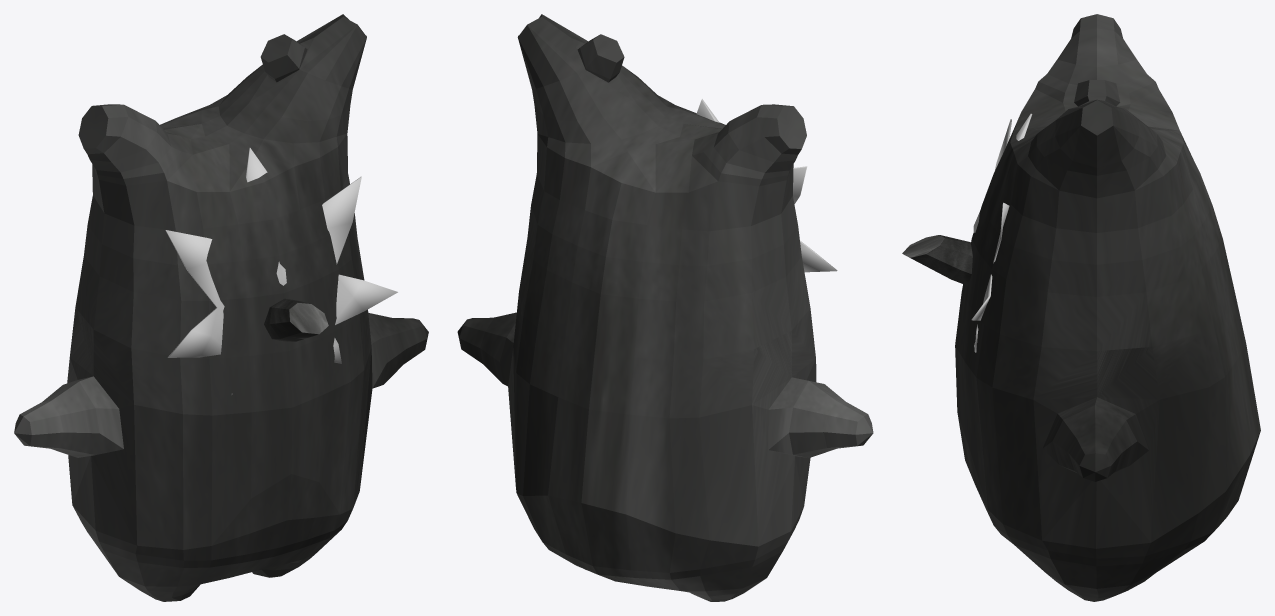
File: frame_0003.obj
3 renders of one model, left to right at view 1: azimuth 30°, elevation 25°; view 2: azimuth 150°, elevation 25°; view 3: azimuth 270°, elevation 25°, orthographic.
Parts seen in each view (by area): view 1: korok, leaf.003_柱体.013, nose.003_柱体.011; view 2: korok, leaf.003_柱体.013; view 3: korok, nose.003_柱体.011, leaf.003_柱体.013.
Boxes of the visible parts, x1,y1,x2,y2 form: korok: (14, 14, 428, 601); leaf.003_柱体.013: (165, 147, 397, 394); nose.003_柱体.011: (264, 298, 328, 341); korok: (457, 14, 873, 601); leaf.003_柱体.013: (696, 99, 837, 272); korok: (955, 14, 1260, 601); nose.003_柱体.011: (902, 235, 972, 285); leaf.003_柱体.013: (971, 113, 1032, 352).
Size of the model in its own units: 1.9 by 2.36 by 1.44.
